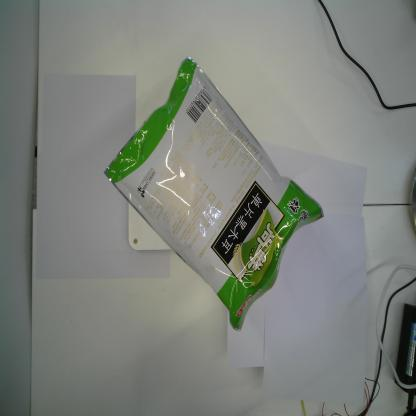Dried Food: (102, 52, 324, 333)
